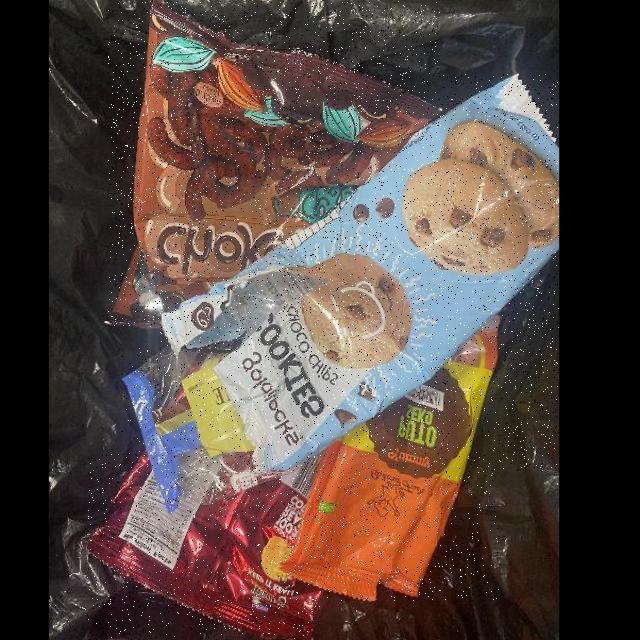wrapper: (161, 74, 559, 471), (108, 0, 440, 327), (280, 313, 500, 601), (87, 453, 323, 640), (123, 346, 277, 513)
